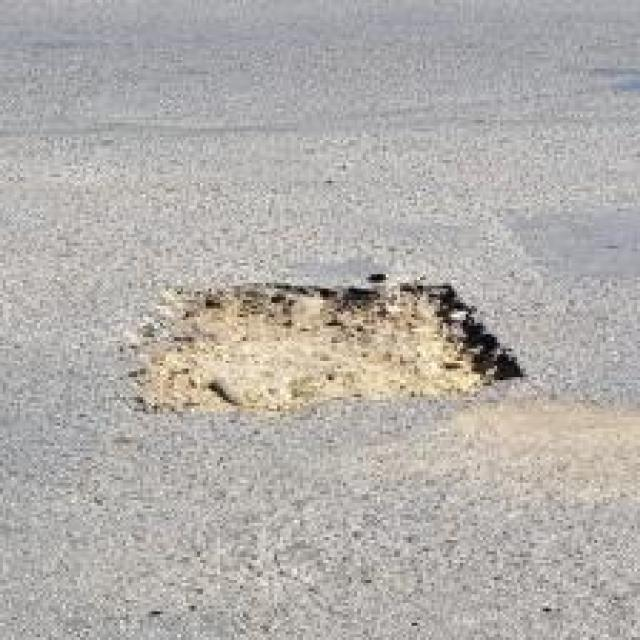BACHE: (135, 282, 520, 411)
PARCHE: (507, 211, 639, 277)
